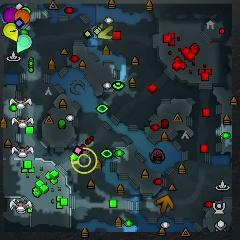p2: (16, 34, 33, 53)
p3: (3, 7, 18, 23)
p4: (3, 22, 18, 42)
p5: (15, 10, 30, 24)
x2: (97, 24, 114, 40)
x5: (156, 194, 174, 213)
